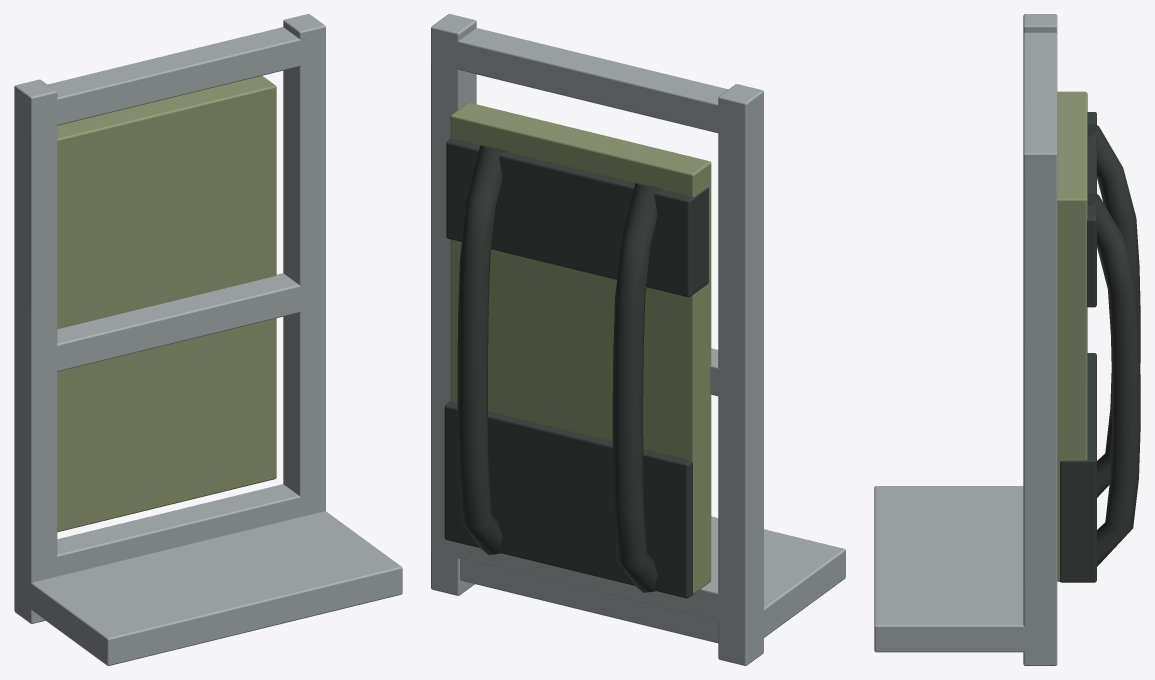
Rendered from backpacks-and-expedition-storage-aluminium-cargo-frame-cc245fab__21067.glb.
3 renders of one model, left to right at view 1: azimuth 30°, elevation 25°; view 2: azimuth 150°, elevation 25°; view 3: azimuth 270°, elevation 25°, orthographic. The views are drawn at different scales.
Visible parts, largest first — view 1: aluminium-cargo-frame; view 2: aluminium-cargo-frame; view 3: aluminium-cargo-frame.
Boxes of the visible parts, x1,y1,x2,y2 form: aluminium-cargo-frame: (14, 14, 402, 665); aluminium-cargo-frame: (431, 14, 845, 665); aluminium-cargo-frame: (874, 14, 1140, 665).
Size of the model in its own units: 0.44 by 0.75 by 0.3529.
